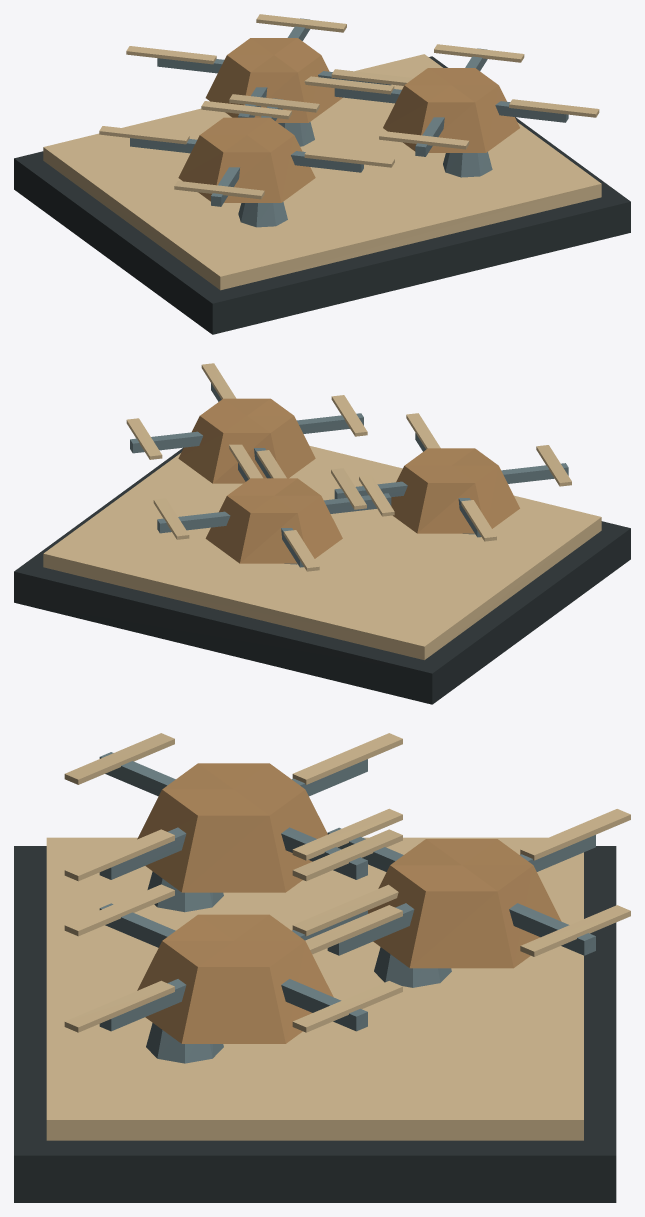
File: Agricultural-Drones.glb
3 views of the same model, one above another, from view 1: azimuth 30°, elevation 25°; view 2: azimuth 150°, elevation 25°; view 3: azimuth 270°, elevation 25° (orthographic). The views are drawn at different scales.
Parts seen in each view (by area): view 1: agricultural-drones-static-drone-cream-rotors, agricultural-drones-static-drone-pad-rubber, agricultural-drones-static-drone-muted-teal, agricultural-drones-static-drone-dark-metal, agricultural-drones-static-drone-galvanized; view 2: agricultural-drones-static-drone-cream-rotors, agricultural-drones-static-drone-pad-rubber, agricultural-drones-static-drone-muted-teal, agricultural-drones-static-drone-dark-metal; view 3: agricultural-drones-static-drone-cream-rotors, agricultural-drones-static-drone-pad-rubber, agricultural-drones-static-drone-muted-teal, agricultural-drones-static-drone-dark-metal, agricultural-drones-static-drone-galvanized.
Boxes of the visible parts, x1,y1,x2,y2 form: agricultural-drones-static-drone-cream-rotors: [43, 14, 601, 290]; agricultural-drones-static-drone-pad-rubber: [14, 56, 630, 334]; agricultural-drones-static-drone-muted-teal: [178, 38, 519, 202]; agricultural-drones-static-drone-dark-metal: [130, 18, 568, 206]; agricultural-drones-static-drone-galvanized: [238, 122, 492, 227]; agricultural-drones-static-drone-cream-rotors: [43, 363, 601, 660]; agricultural-drones-static-drone-pad-rubber: [14, 447, 630, 704]; agricultural-drones-static-drone-muted-teal: [178, 398, 519, 563]; agricultural-drones-static-drone-dark-metal: [130, 383, 568, 567]; agricultural-drones-static-drone-cream-rotors: [46, 733, 630, 1140]; agricultural-drones-static-drone-pad-rubber: [14, 846, 616, 1202]; agricultural-drones-static-drone-muted-teal: [137, 763, 561, 1043]; agricultural-drones-static-drone-dark-metal: [99, 752, 595, 1031]; agricultural-drones-static-drone-galvanized: [146, 871, 451, 1063].
Bounding box in the file's own units: 2.25 × 0.62 × 1.89.
